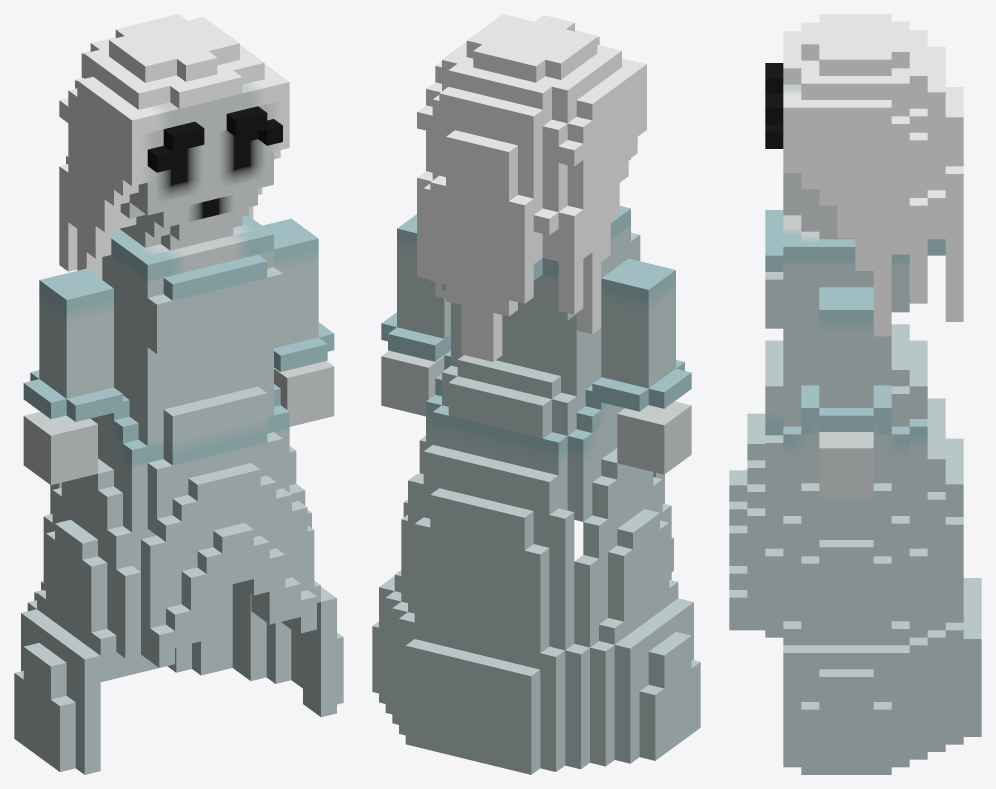
Rendered from Banshee.FBX.
The picture shows the model from 3 angles, left to right: view 1: azimuth 30°, elevation 25°; view 2: azimuth 150°, elevation 25°; view 3: azimuth 270°, elevation 25°; orthographic projection.
Visible parts, largest first — view 1: Body, Head, Front_Skirt, Right_Skirt, Right_Skirt2, R_Arm, Left_Skirt2, L_Arm, R_Hand, Back_Skirt2, L_Hand, Left_Skirt (+1 smaller); view 2: Head, Back_Skirt, Body, Back_Skirt2, Right_Skirt, Right_Skirt2, R_Arm, L_Arm, R_Hand, L_Hand, Left_Skirt2, Left_Skirt; view 3: Head, Body, Left_Skirt, Left_Skirt2, L_Arm, Back_Skirt, Back_Skirt2, Front_Skirt, L_Hand, Right_Skirt.
Part boxes in pixels (x1,y1,x2,y2): Body: (90, 215, 289, 534); Head: (59, 14, 289, 279); Front_Skirt: (141, 463, 316, 667); Right_Skirt: (37, 458, 140, 658); Right_Skirt2: (14, 600, 100, 774); R_Arm: (23, 268, 122, 421); Left_Skirt2: (232, 583, 343, 717); L_Arm: (262, 218, 334, 371); R_Hand: (23, 411, 97, 484); Back_Skirt2: (34, 566, 232, 681); L_Hand: (274, 361, 334, 426); Left_Skirt: (289, 446, 320, 602); Head: (417, 14, 646, 361); Back_Skirt: (408, 445, 574, 652); Body: (426, 206, 640, 521); Back_Skirt2: (392, 601, 589, 774); Right_Skirt: (574, 448, 678, 647); Right_Skirt2: (590, 598, 700, 766); R_Arm: (592, 258, 691, 411); L_Arm: (381, 214, 450, 361); R_Hand: (617, 401, 691, 474); L_Hand: (381, 350, 444, 416); Left_Skirt2: (372, 576, 401, 714); Left_Skirt: (394, 436, 425, 602); Head: (765, 14, 963, 336); Body: (765, 210, 945, 515); Left_Skirt: (765, 483, 927, 645); Left_Skirt2: (783, 637, 927, 774); L_Arm: (801, 287, 891, 431); Back_Skirt: (927, 398, 963, 630); Back_Skirt2: (927, 578, 981, 751); Front_Skirt: (729, 413, 765, 630); L_Hand: (819, 432, 873, 497); Right_Skirt: (765, 508, 927, 548).
Bounding box in the file's own units: 71.99 × 164 × 55.99.
